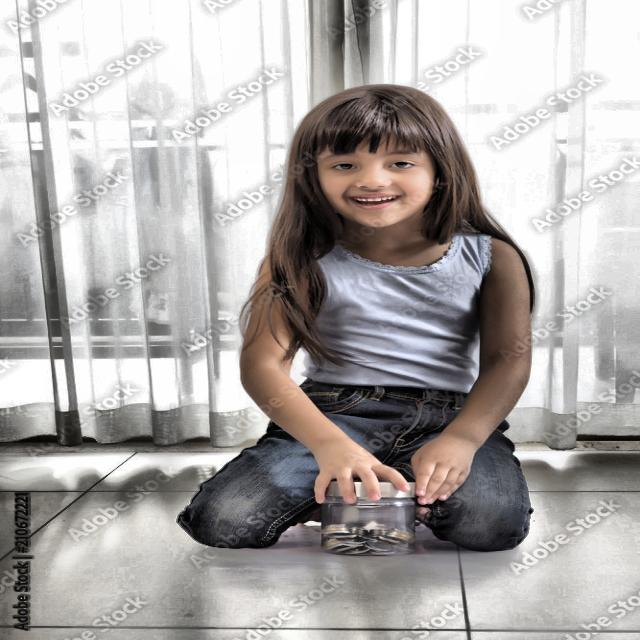Human: (168, 75, 582, 574)
